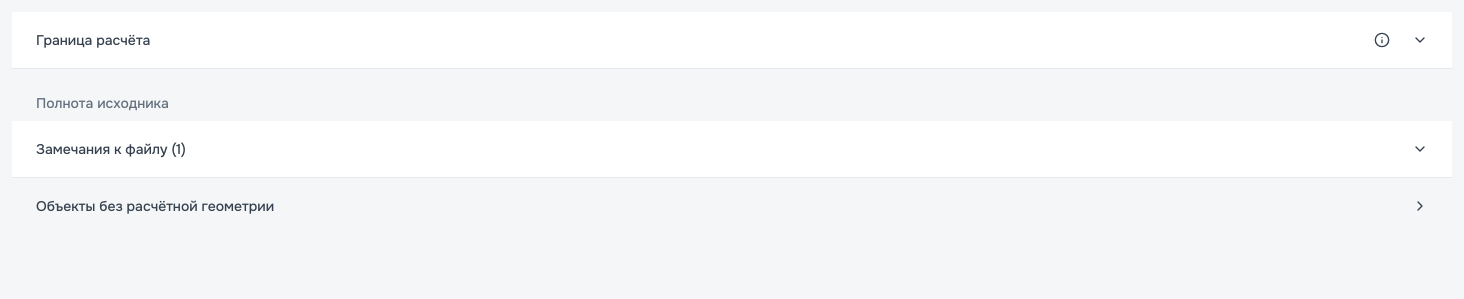
it: SourceGeometryReview › retains the full AutoCAD warning as contextual detail without demanding another decision
Expected: the text "XREF 03_Проектные решения: объект 12A74 не извлечён" is not shown
Click the button "Замечания к файлу (1)".
click(111, 149)  # box [12,121,1452,177]
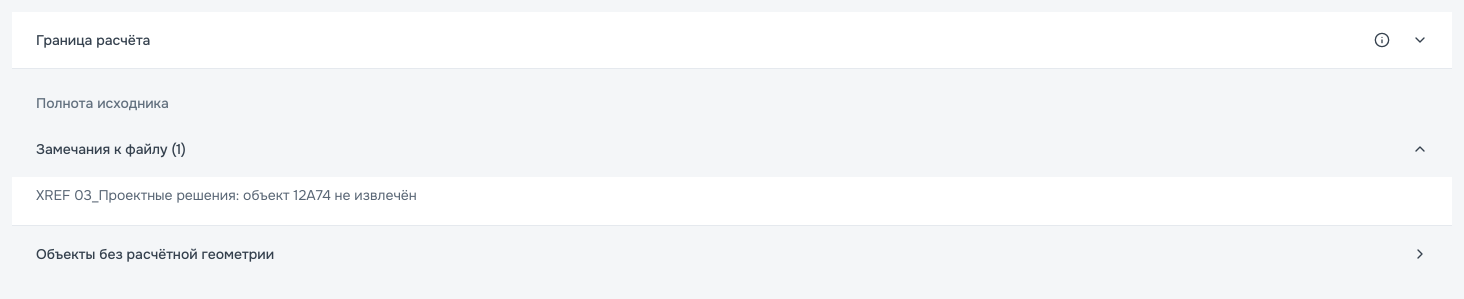
Expected: the button "Объекты без расчётной геометрии" is shown, [12,226,1452,282]
Result: the list item "XREF 03_Проектные решения: объект 12A74 не извлечён" is shown at [36,186,417,204]
Click the button "Замечания к файлу (1)".
click(111, 149)  # box [12,121,1452,177]
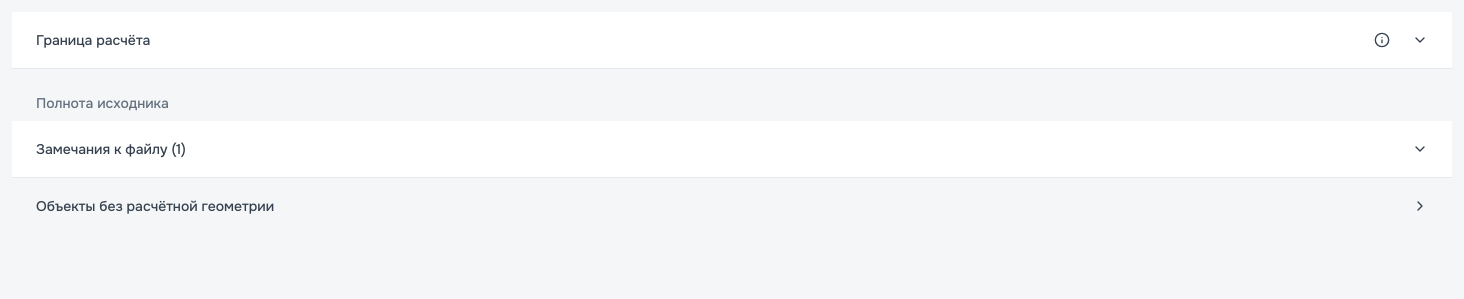
Result: the list item "XREF 03_Проектные решения: объект 12A74 не извлечён" is gone
